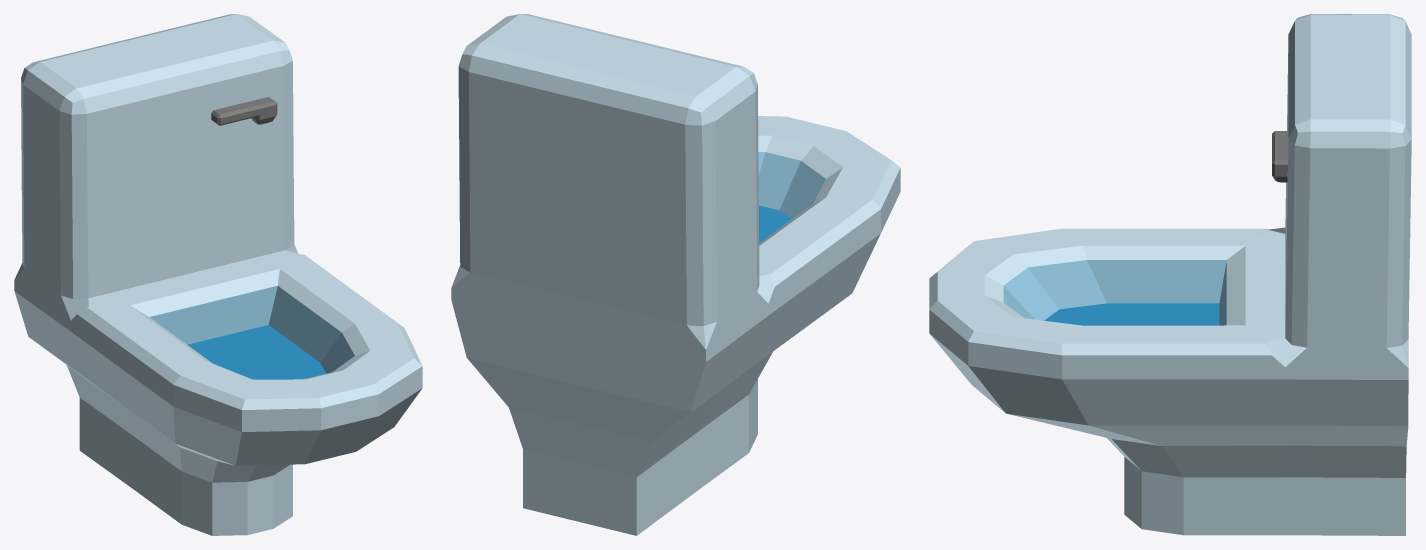
The model's file is Toilet.fbx.
3 views of the same model, side by side, from view 1: azimuth 30°, elevation 25°; view 2: azimuth 150°, elevation 25°; view 3: azimuth 270°, elevation 25° (orthographic). The views are drawn at different scales.
Visible parts, largest first — view 1: Toilet; view 2: Toilet; view 3: Toilet.
Part boxes in pixels (<box>): Toilet: <box>14,14,422,535</box>; Toilet: <box>451,14,900,535</box>; Toilet: <box>929,14,1411,535</box>.
Bounding box in the file's own units: 0.4104 × 0.6875 × 0.6808.
1 material, 1 textured.
